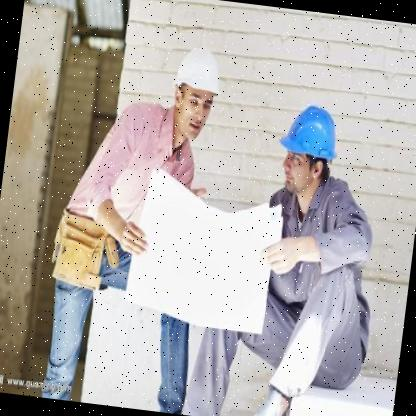capacete: (268, 87, 347, 205), (164, 38, 232, 150)
